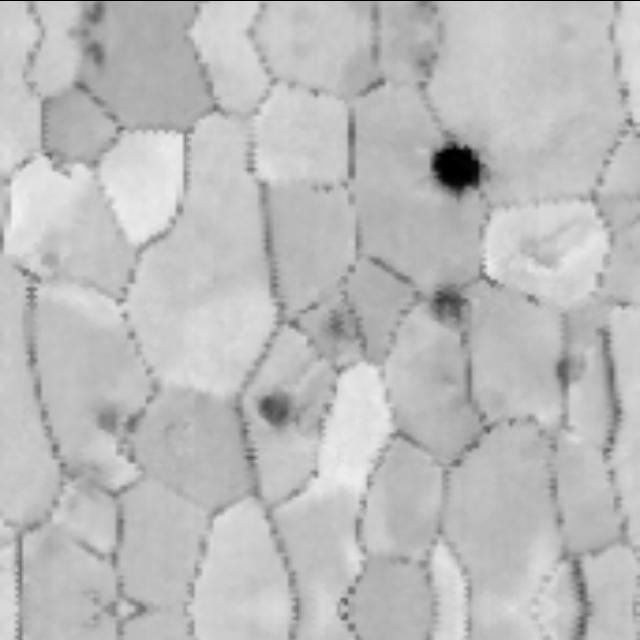good_void: (418, 125, 491, 199), (246, 386, 302, 438), (425, 273, 473, 328), (88, 390, 130, 437), (545, 346, 591, 386), (319, 303, 359, 347), (77, 37, 111, 77), (77, 0, 111, 28)
